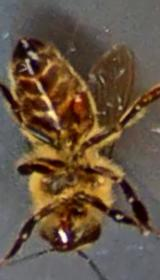varroa_mite: (62, 85, 105, 122)
